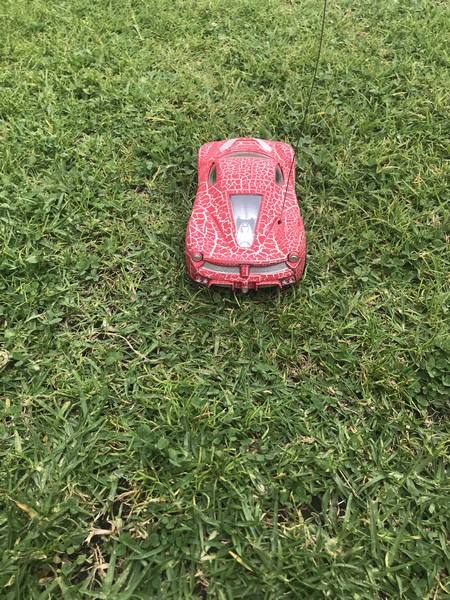RC: (183, 135, 309, 294)
